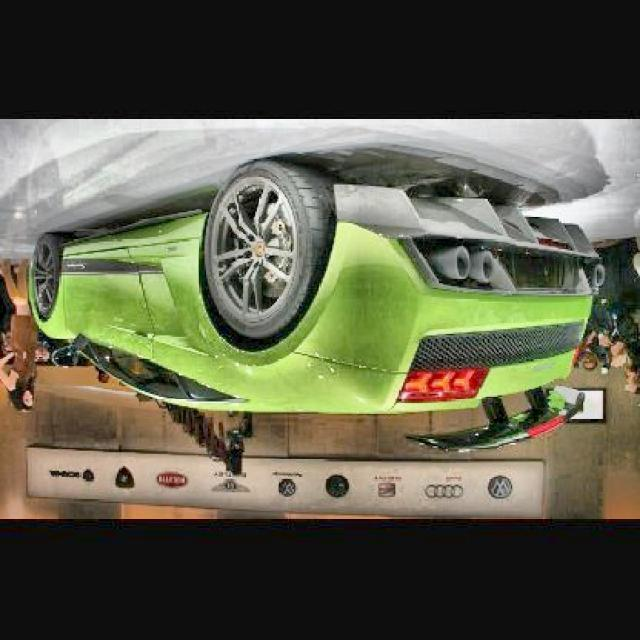green: (29, 159, 598, 412)
